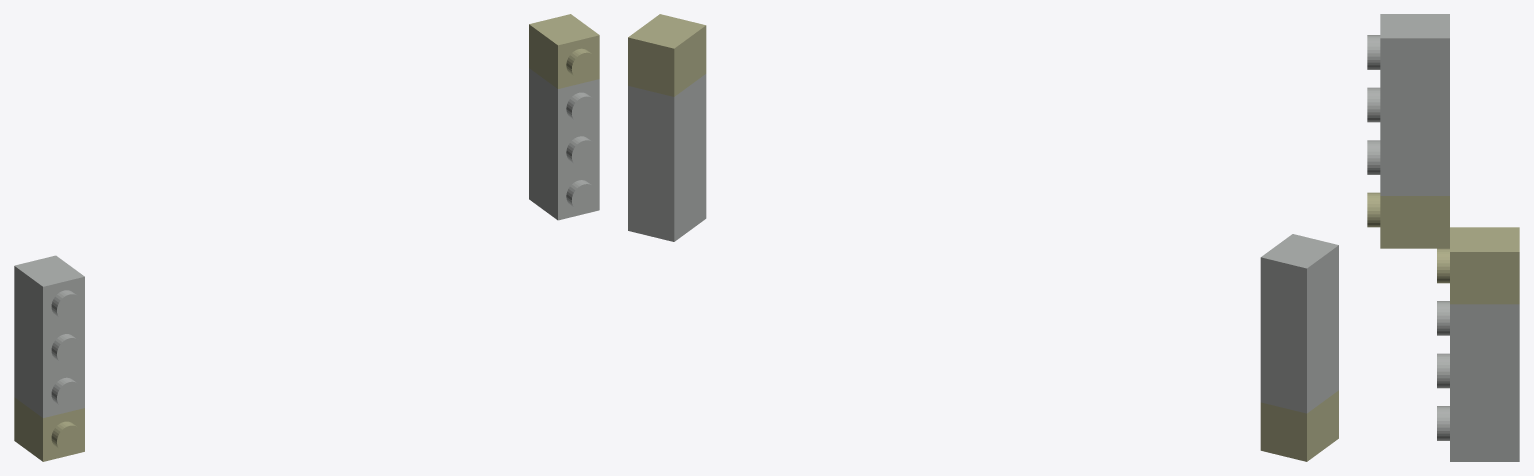
Rendered from current.glb.
The picture shows the model from 3 angles, left to right: view 1: azimuth 30°, elevation 25°; view 2: azimuth 150°, elevation 25°; view 3: azimuth 270°, elevation 25°; orthographic projection. The views are drawn at different scales.
Parts seen in each view (by area): view 1: world; view 2: world; view 3: world.
Part boxes in pixels (left/top/right/bottom): world: left=14, top=14, right=599, bottom=461; world: left=628, top=14, right=1338, bottom=461; world: left=1367, top=14, right=1519, bottom=461.
Bounding box in the file's own units: 112 × 48 × 21.
